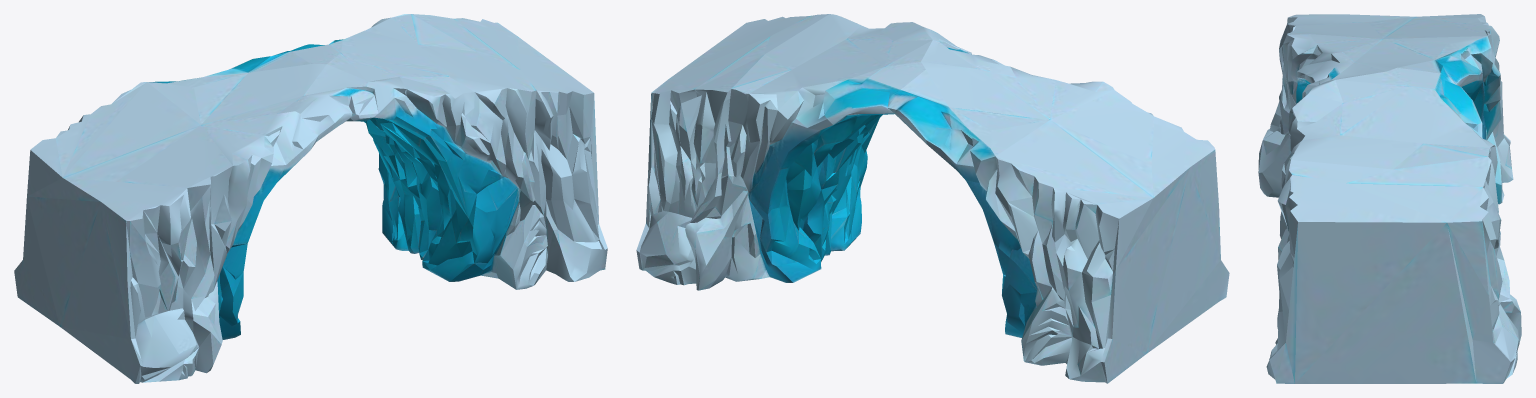
The model's file is ice_arch.glb.
The picture shows the model from 3 angles, left to right: view 1: azimuth 30°, elevation 25°; view 2: azimuth 150°, elevation 25°; view 3: azimuth 270°, elevation 25°; orthographic projection. The views are drawn at different scales.
Bounding box in the file's own units: 1.9 × 0.8399 × 0.958.
1 material, 1 textured.
